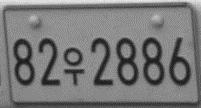2: (90, 37, 114, 86), (38, 37, 60, 86)
6: (168, 36, 191, 86)
8: (11, 38, 35, 85), (115, 37, 138, 86), (141, 37, 164, 85)
우: (62, 47, 85, 85)
